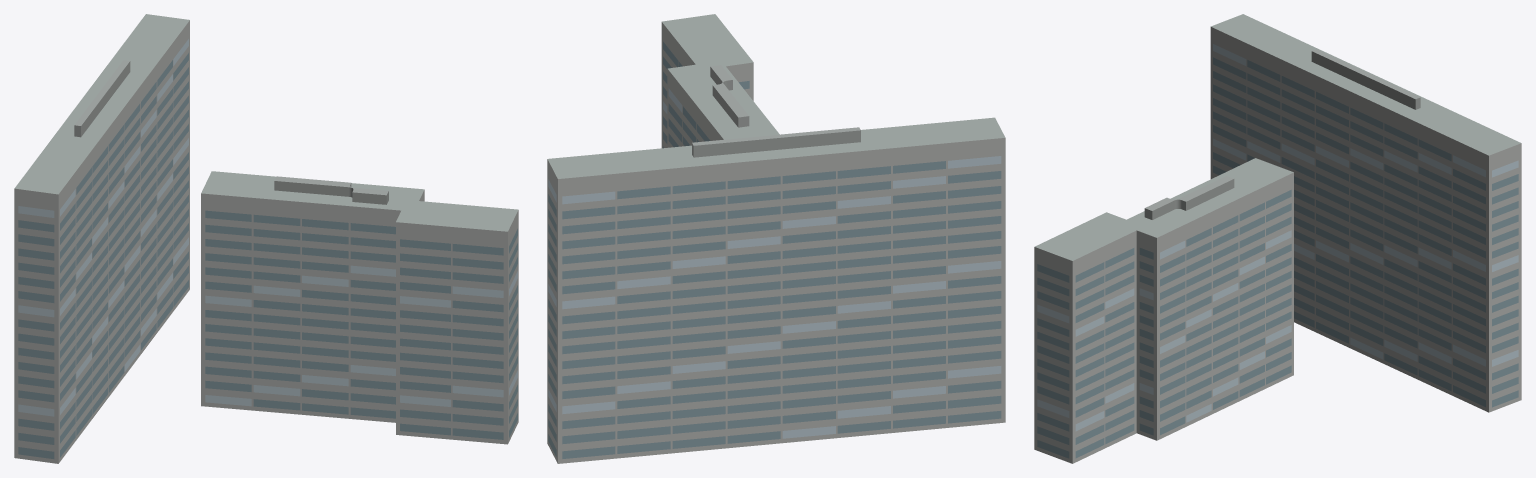
The model's file is apt-a13790707.glb.
3 renders of one model, left to right at view 1: azimuth 30°, elevation 25°; view 2: azimuth 150°, elevation 25°; view 3: azimuth 270°, elevation 25°, orthographic. The views are drawn at different scales.
Visible parts, largest first — view 1: apt-a13790707; view 2: apt-a13790707; view 3: apt-a13790707.
Boxes of the visible parts, x1=… form: apt-a13790707: x1=14, y1=14, x2=518, y2=463; apt-a13790707: x1=547, y1=14, x2=1005, y2=463; apt-a13790707: x1=1034, y1=14, x2=1521, y2=463.
Bounding box in the file's own units: 93.35 × 60.35 × 99.59.
